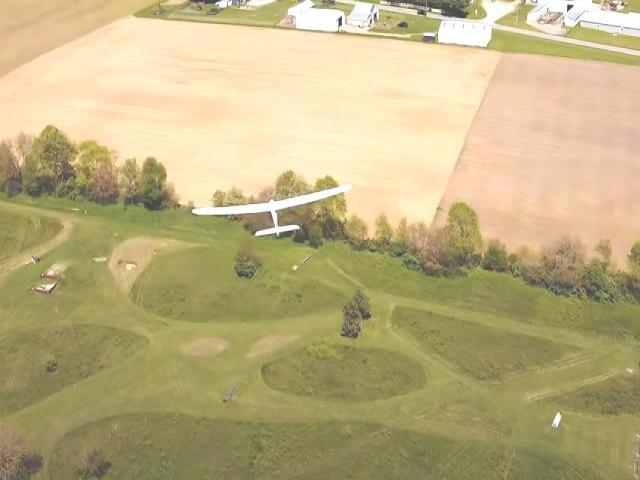iha: (190, 173, 355, 239)
